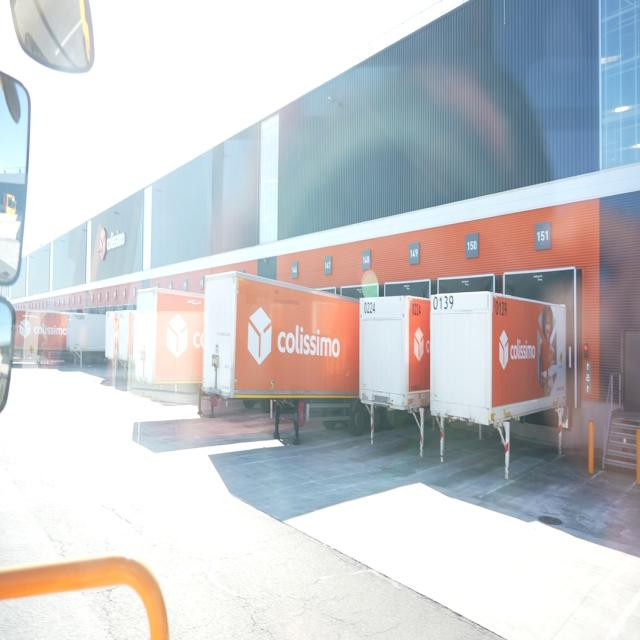Code: (432, 291, 455, 316), (492, 296, 512, 322), (408, 298, 425, 322), (361, 298, 378, 320)
